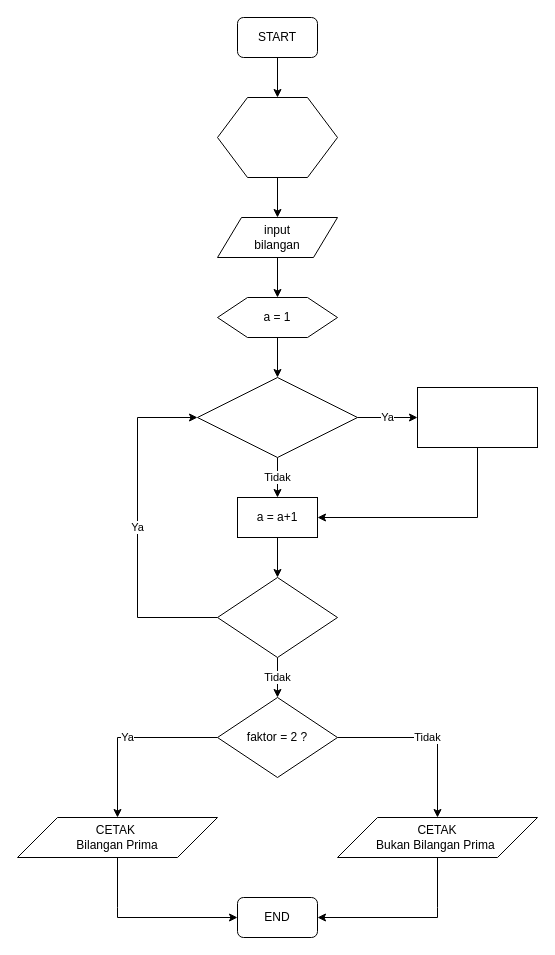
Some shapes in this 555 by 955 pixel diagram are drawn without their labels. The centre of each missing label's shape, as x and y in pixels:
a <= bilangan?: the point at 277,617
bilangan % a = 0 ?: the point at 277,417
faktor = faktor+1: the point at 477,417
int faktor = 0 int bilangan int a: the point at 277,137
